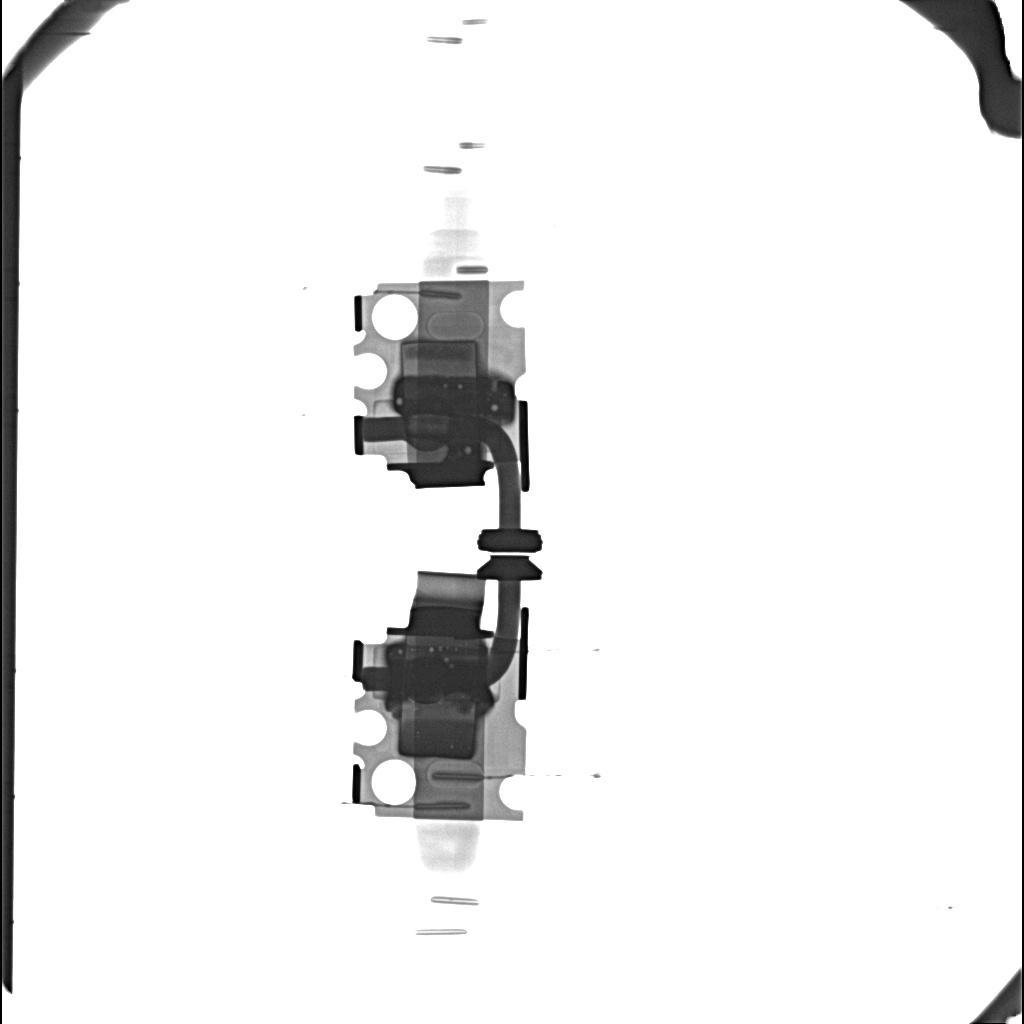defect: (395, 377, 514, 420), (397, 704, 477, 760), (389, 662, 488, 695), (400, 341, 478, 375), (464, 445, 472, 455)
